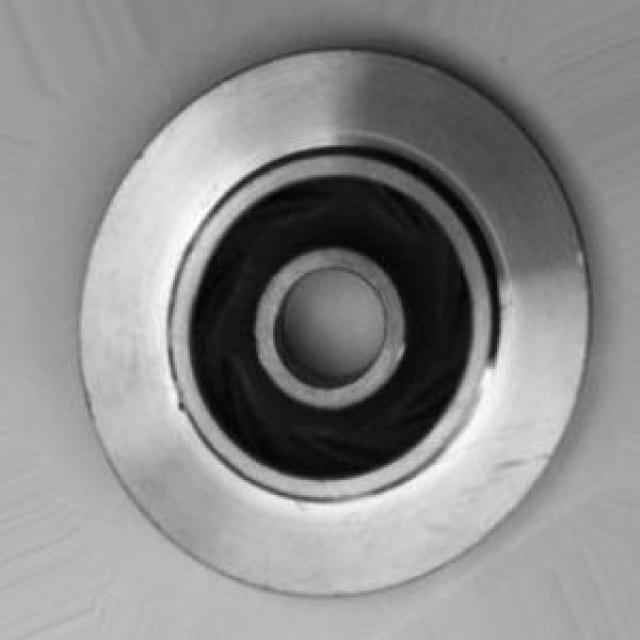Defect: (174, 396, 196, 420)
